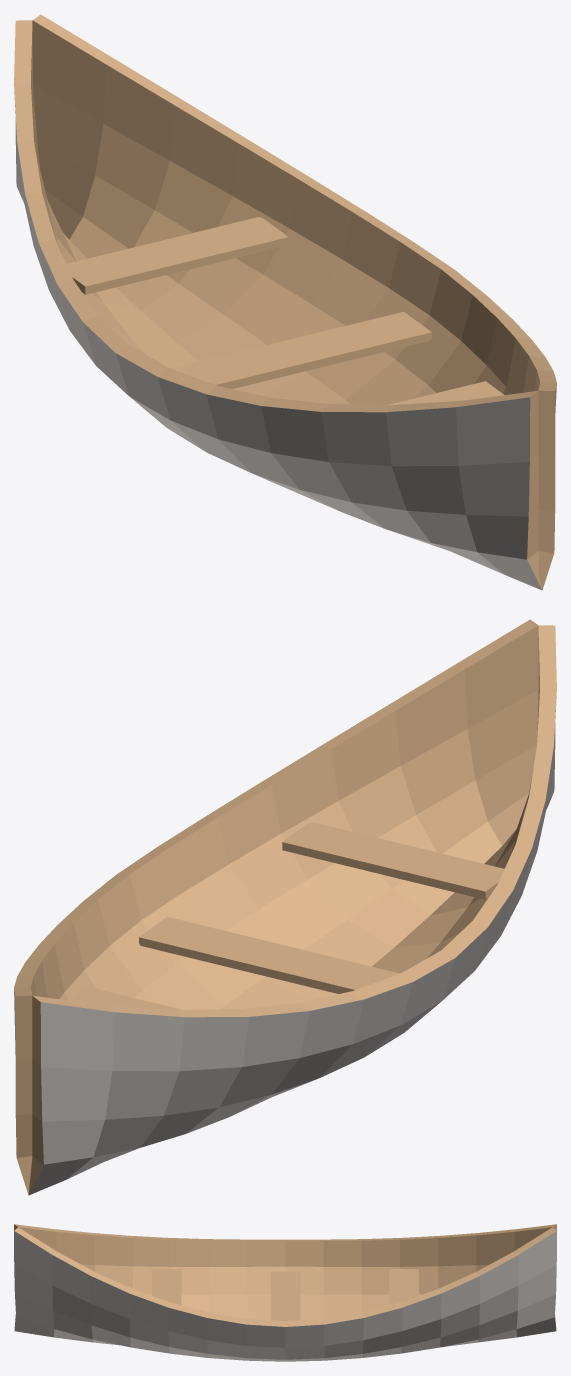
Rendered from boat.glb.
3 renders of one model, top to bottom at view 1: azimuth 30°, elevation 25°; view 2: azimuth 150°, elevation 25°; view 3: azimuth 270°, elevation 25°, orthographic. The views are drawn at different scales.
Parts seen in each view (by area): view 1: Boat, Cube.001, Cube, Cube.002; view 2: Boat, Cube.001, Cube.002, Cube; view 3: Boat, Cube.001, Cube, Cube.002.
Boxes of the visible parts, left/top/right/bottom form: Boat: left=14, top=14, right=556, bottom=590; Cube.001: left=171, top=311, right=431, bottom=388; Cube: left=66, top=217, right=288, bottom=294; Cube.002: left=388, top=381, right=504, bottom=404; Boat: left=14, top=619, right=556, bottom=1195; Cube.001: left=139, top=916, right=399, bottom=993; Cube.002: left=282, top=822, right=504, bottom=899; Cube: left=66, top=986, right=182, bottom=1009; Boat: left=14, top=1224, right=556, bottom=1361; Cube.001: left=270, top=1271, right=300, bottom=1321; Cube: left=389, top=1269, right=418, bottom=1305; Cube.002: left=152, top=1269, right=181, bottom=1305.
Size of the model in its own units: 3.49 by 2.35 by 9.15.
